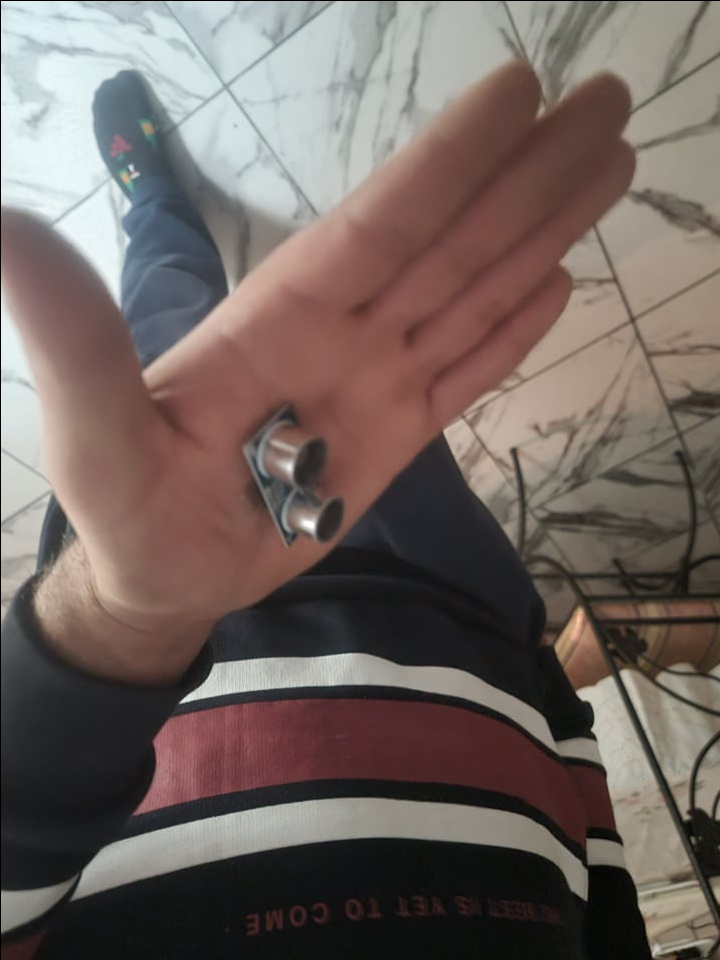SENSOR: (239, 402, 348, 550)
